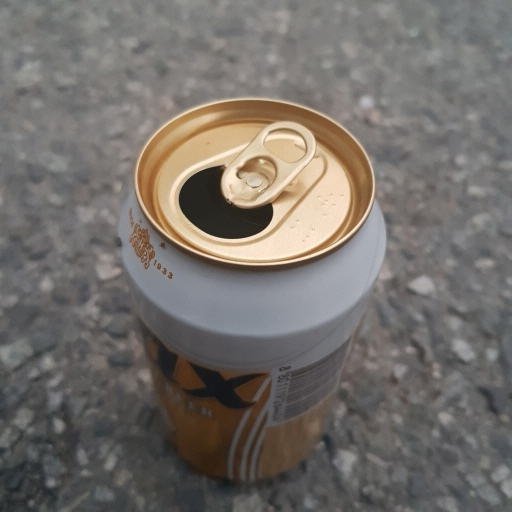Metal_0: (113, 98, 388, 483)
